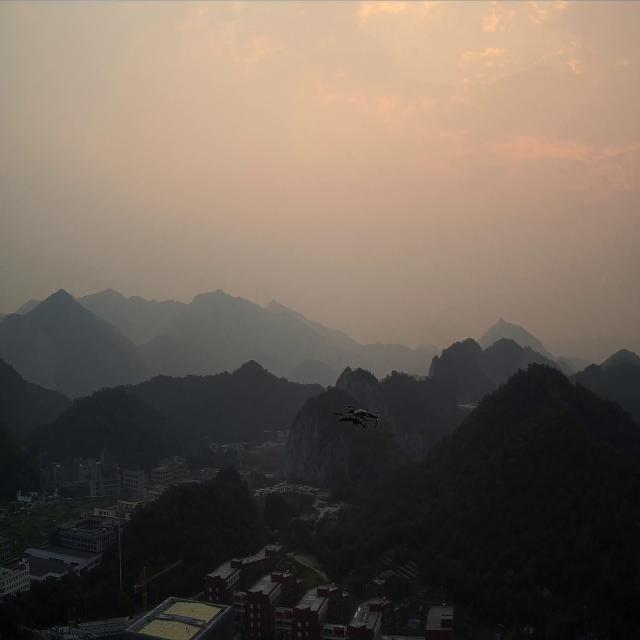UAV: (330, 404, 382, 429)
